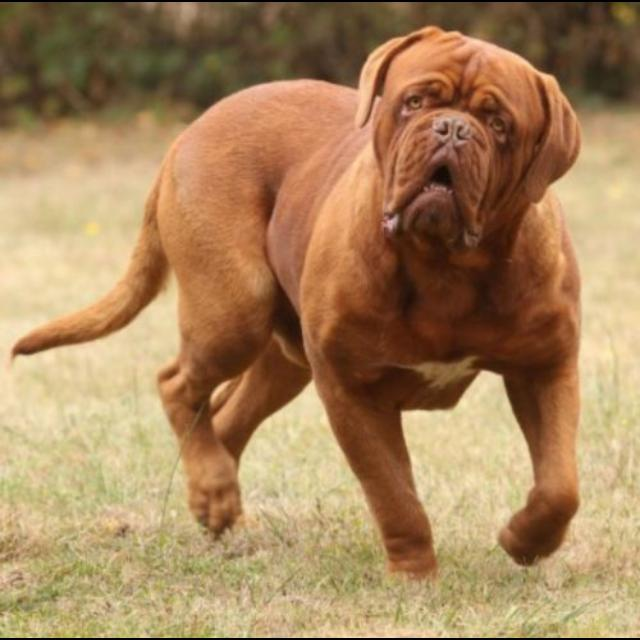dogue_de_bordeaux: (10, 26, 584, 587)
